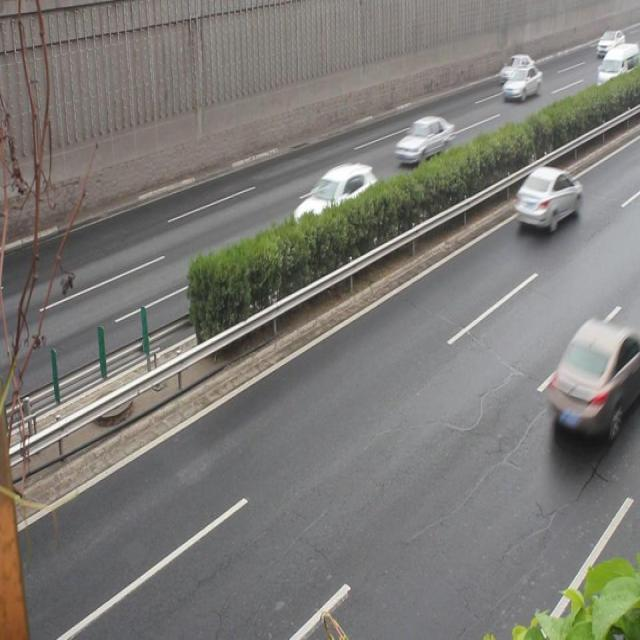car: (547, 320, 640, 436), (290, 164, 378, 248), (515, 165, 582, 227), (394, 114, 453, 167), (502, 65, 541, 100), (499, 54, 534, 85)
